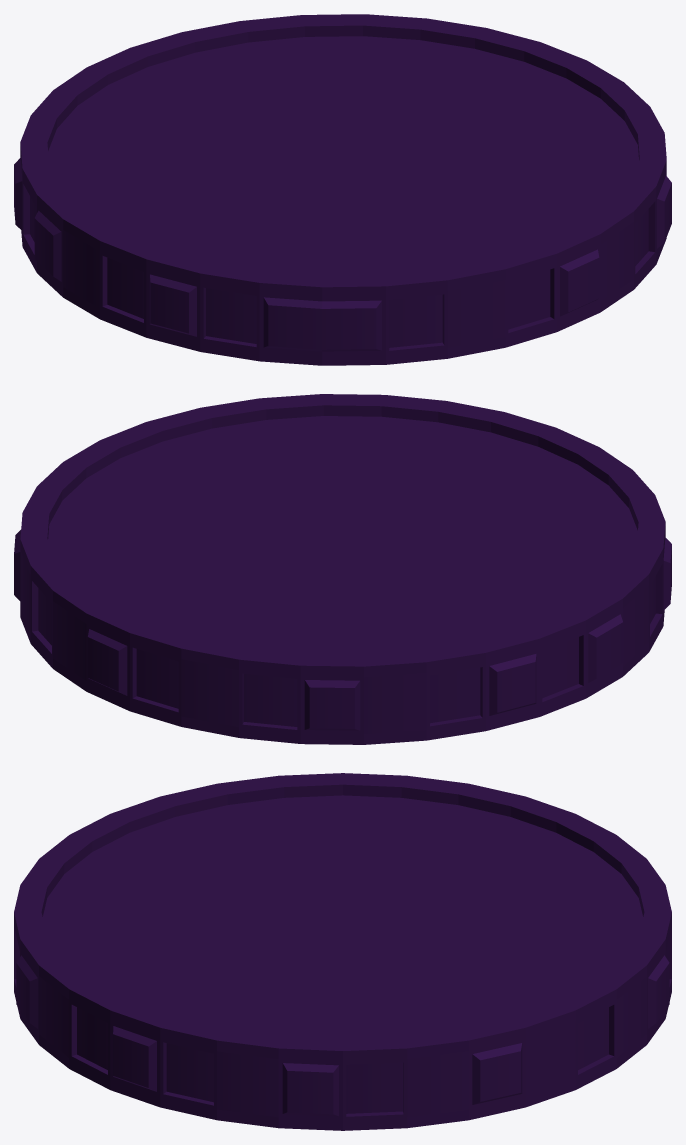
File: MovingPlatformCicleUV.FBX
3 renders of one model, top to bottom at view 1: azimuth 30°, elevation 25°; view 2: azimuth 150°, elevation 25°; view 3: azimuth 270°, elevation 25°, orthographic.
Parts seen in each view (by area): view 1: MovingPlateformCircle; view 2: MovingPlateformCircle; view 3: MovingPlateformCircle.
Part boxes in pixels (bbox=[...]): MovingPlateformCircle: bbox=[14, 14, 671, 365]; MovingPlateformCircle: bbox=[14, 394, 671, 744]; MovingPlateformCircle: bbox=[14, 773, 671, 1130].
Bounding box in the file's own units: 1018 × 134 × 1000.
